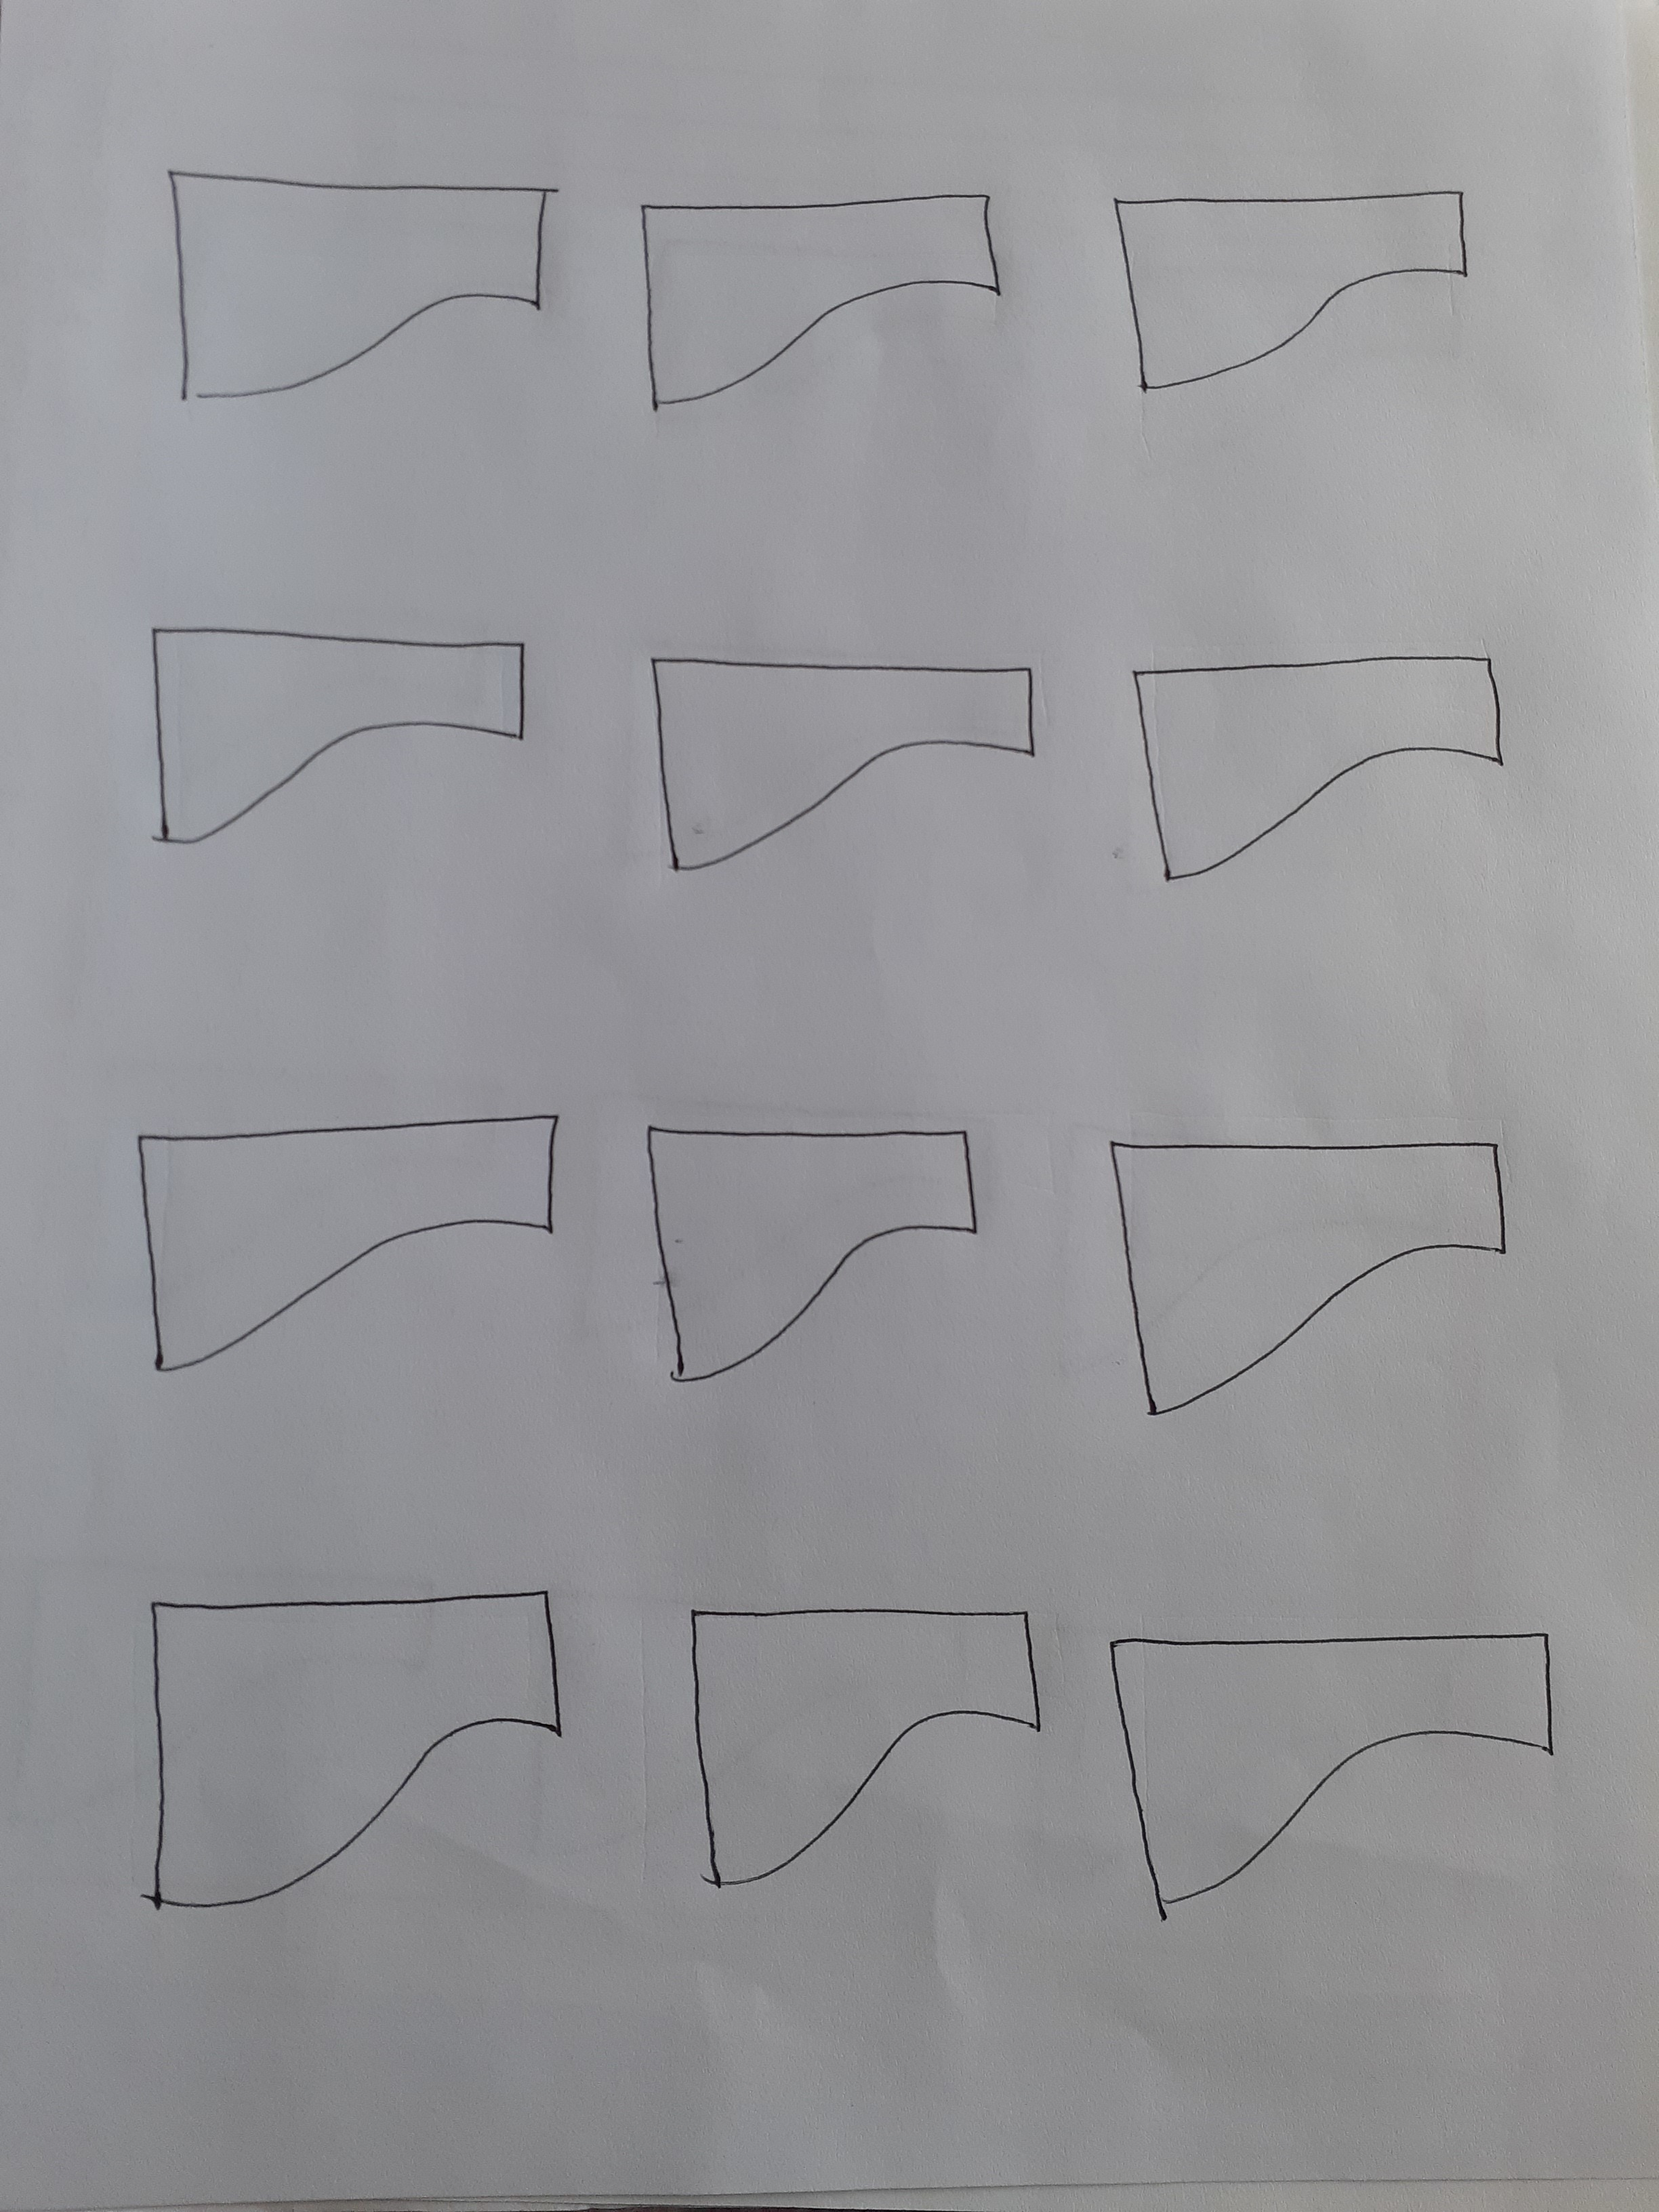print: (110, 1533, 601, 1987), (1075, 1078, 1560, 1451), (1108, 1580, 1574, 1946), (89, 1089, 603, 1397), (125, 138, 580, 458), (671, 1554, 1054, 1902), (1082, 143, 1525, 421), (610, 615, 1065, 883), (634, 1085, 997, 1400), (1119, 639, 1528, 909), (143, 601, 544, 869), (610, 178, 1021, 418)
